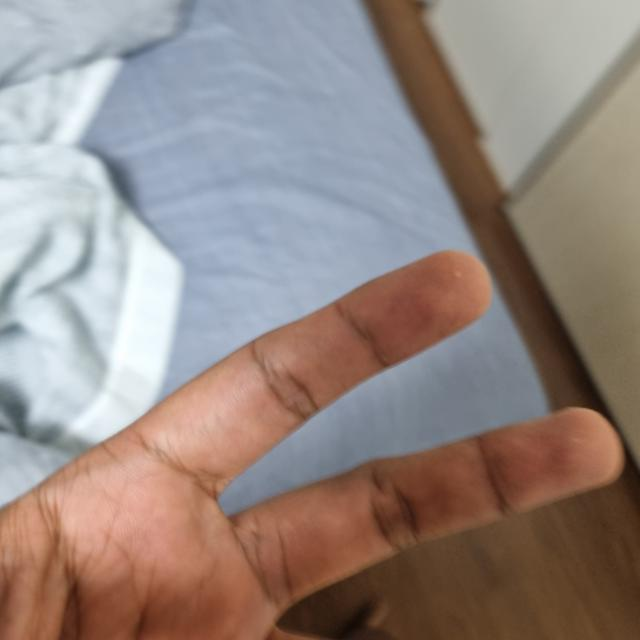Scissors: (0, 248, 623, 639)
